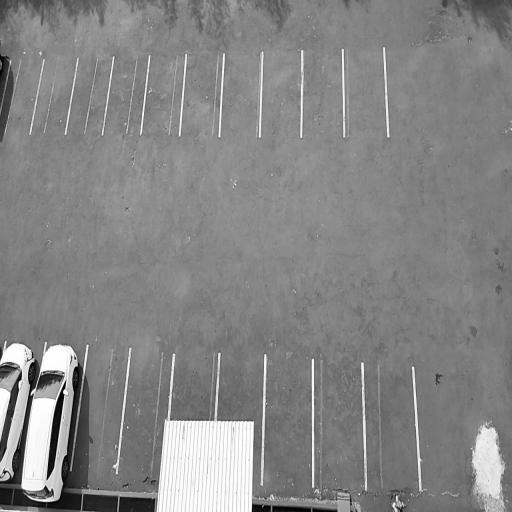Car: (13, 340, 88, 507), (0, 332, 42, 487)
Space Available: (69, 341, 130, 472), (362, 364, 419, 492), (118, 348, 171, 478), (262, 354, 312, 487), (313, 359, 364, 489), (343, 47, 389, 137), (103, 51, 151, 137), (66, 51, 114, 137), (30, 54, 79, 136), (301, 49, 346, 136), (179, 53, 223, 138), (260, 49, 303, 135), (220, 49, 262, 136), (0, 51, 44, 134), (142, 54, 185, 137), (216, 354, 267, 421), (169, 354, 219, 420)
